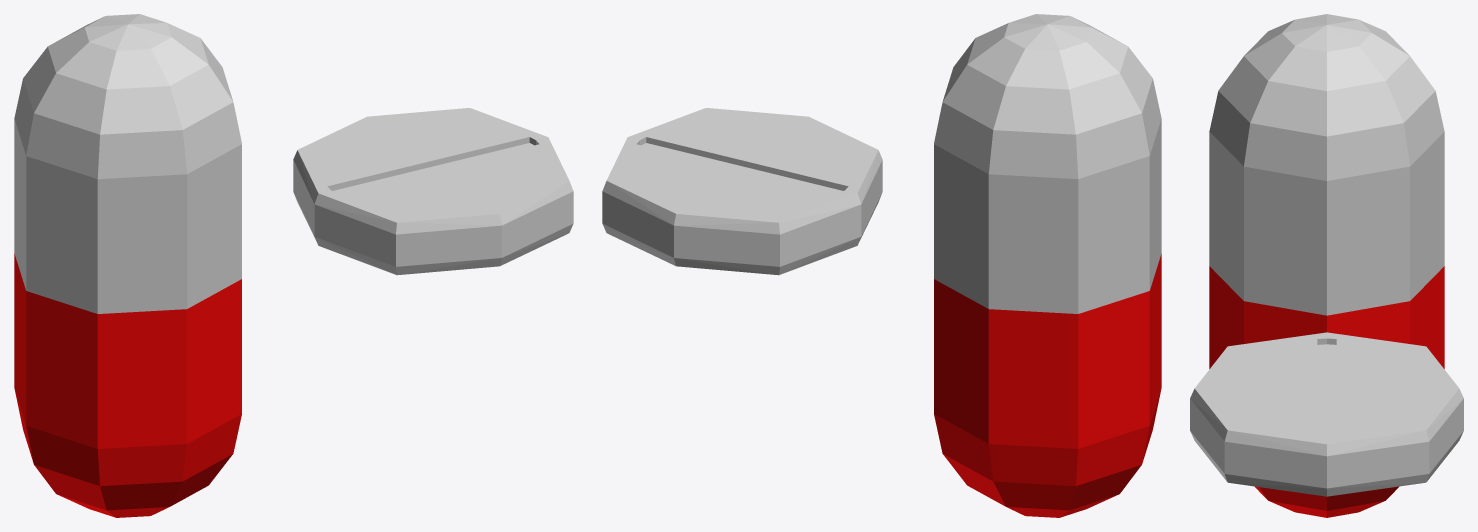
File: pill.obj
3 renders of one model, left to right at view 1: azimuth 30°, elevation 25°; view 2: azimuth 150°, elevation 25°; view 3: azimuth 270°, elevation 25°, orthographic.
Visible parts, largest first — view 1: pills_pill; view 2: pills_pill; view 3: pills_pill.
Part boxes in pixels (x1,y1,x2,y2): pills_pill: (14, 14, 573, 517); pills_pill: (602, 14, 1161, 517); pills_pill: (1190, 14, 1463, 517).
Bounding box in the file's own units: 61.85 × 54.3 × 27.95.
